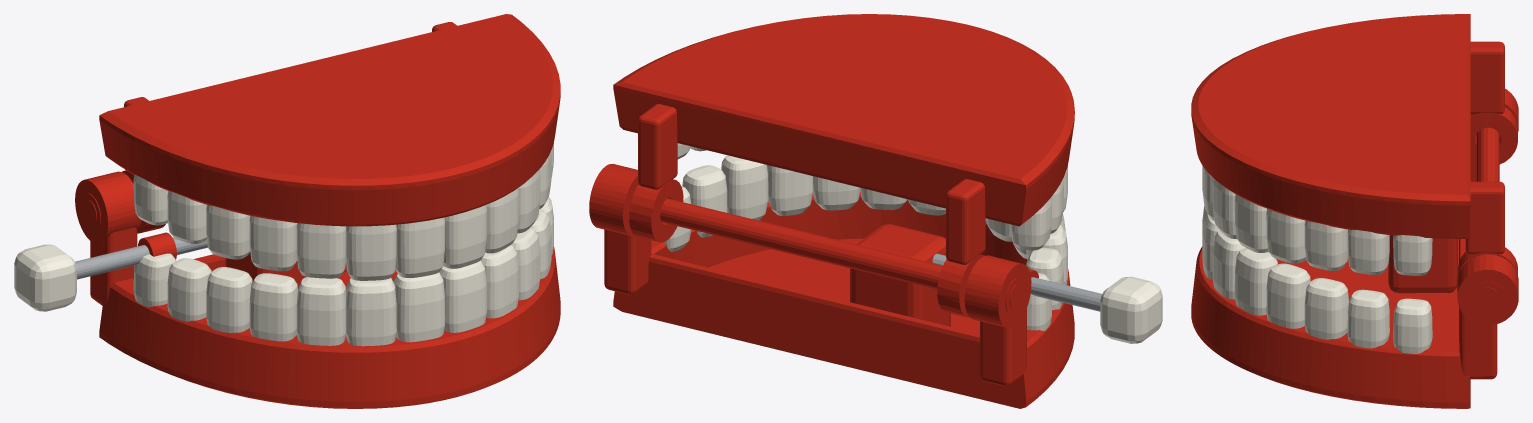
File: NEW567_chattering_teeth_LOD0_v006.glb
The picture shows the model from 3 angles, left to right: view 1: azimuth 30°, elevation 25°; view 2: azimuth 150°, elevation 25°; view 3: azimuth 270°, elevation 25°; orthographic projection. The views are drawn at different scales.
Visible parts, largest first — view 1: Moving_upper_jaw_hinge_ears, Fixed_lower_jaw_knob_and_axle; view 2: Fixed_lower_jaw_knob_and_axle, Moving_upper_jaw_hinge_ears; view 3: Moving_upper_jaw_hinge_ears, Fixed_lower_jaw_knob_and_axle.
Boxes of the visible parts, x1,y1,x2,y2 form: Moving_upper_jaw_hinge_ears: (99, 14, 560, 280); Fixed_lower_jaw_knob_and_axle: (14, 171, 560, 408); Fixed_lower_jaw_knob_and_axle: (589, 155, 1162, 408); Moving_upper_jaw_hinge_ears: (613, 14, 1074, 317); Moving_upper_jaw_hinge_ears: (1191, 14, 1517, 275); Fixed_lower_jaw_knob_and_axle: (1191, 88, 1518, 408).
Size of the model in its own units: 0.0793 by 0.0338 by 0.0469.
